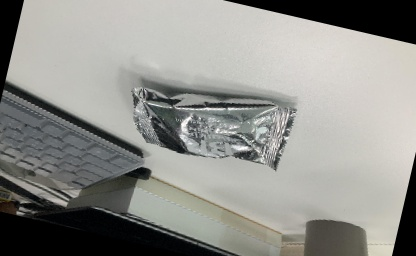br: (119, 68, 301, 180)
